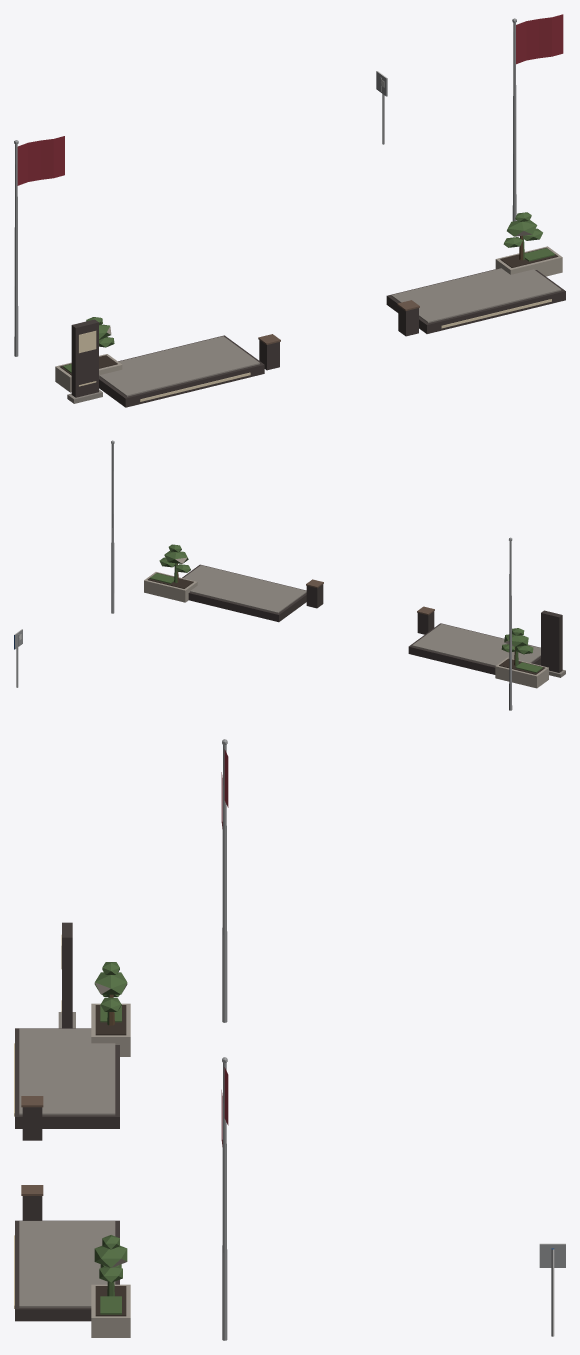
Rendered from concession_props_b.glb.
3 views of the same model, one above another, from view 1: azimuth 30°, elevation 25°; view 2: azimuth 150°, elevation 25°; view 3: azimuth 270°, elevation 25° (orthographic). The views are drawn at different scales.
Visible parts, largest first — view 1: concession_props_b; view 2: concession_props_b; view 3: concession_props_b.
Boxes of the visible parts, left/top/right/bottom form: concession_props_b: left=14, top=14, right=565, bottom=407; concession_props_b: left=14, top=440, right=565, bottom=710; concession_props_b: left=14, top=739, right=565, bottom=1340.
Bounding box in the file's own units: 19.05 × 7.13 × 12.62.
